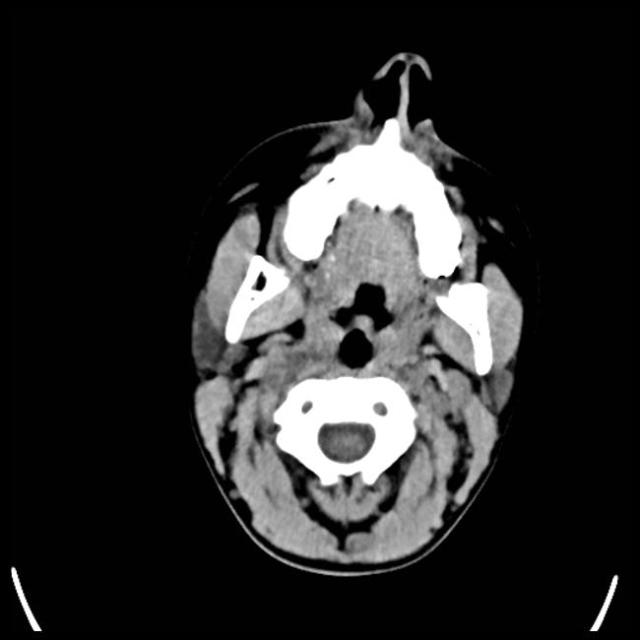lesion: (183, 49, 535, 578)
